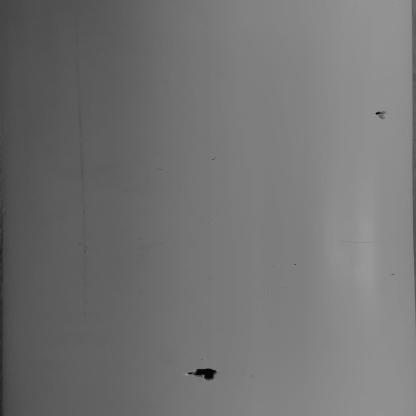kongdong: (181, 362, 233, 386), (372, 104, 395, 127)
